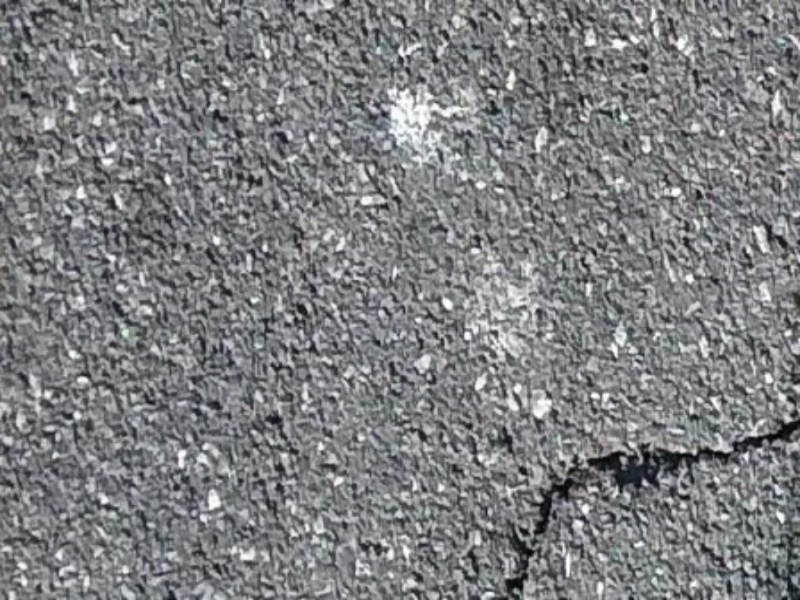crack: (493, 418, 792, 583)
